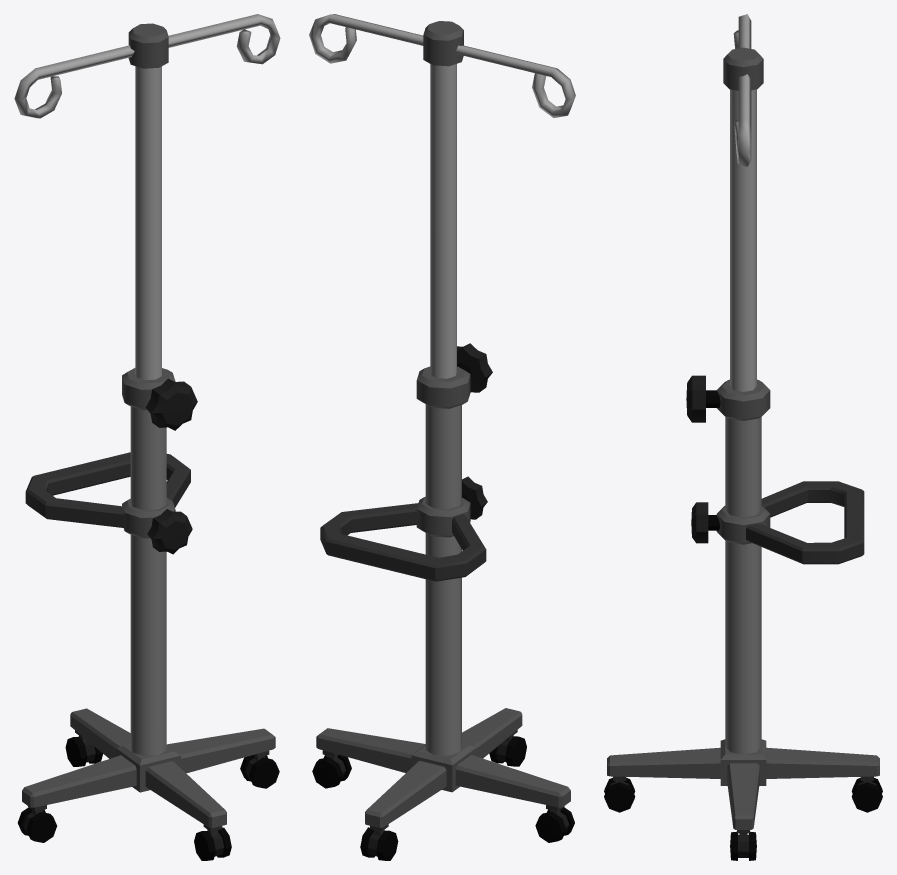
The model's file is IV Stand 01.fbx.
3 views of the same model, side by side, from view 1: azimuth 30°, elevation 25°; view 2: azimuth 150°, elevation 25°; view 3: azimuth 270°, elevation 25° (orthographic). The views are drawn at different scales.
Parts seen in each view (by area): view 1: IV_Stand_01; view 2: IV_Stand_01; view 3: IV_Stand_01.
Boxes of the visible parts, <box> form: IV_Stand_01: <box>14,14,280,860</box>; IV_Stand_01: <box>309,14,575,860</box>; IV_Stand_01: <box>604,14,882,860</box>.
Bounding box in the file's own units: 70.24 × 199 × 66.61.
